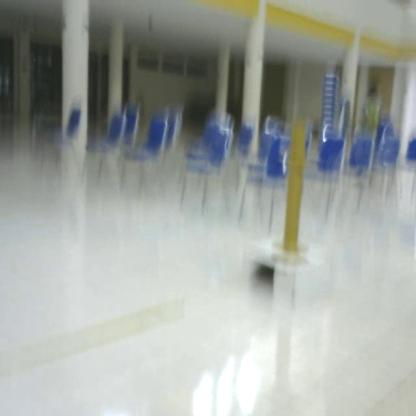pole: (275, 113, 315, 259)
